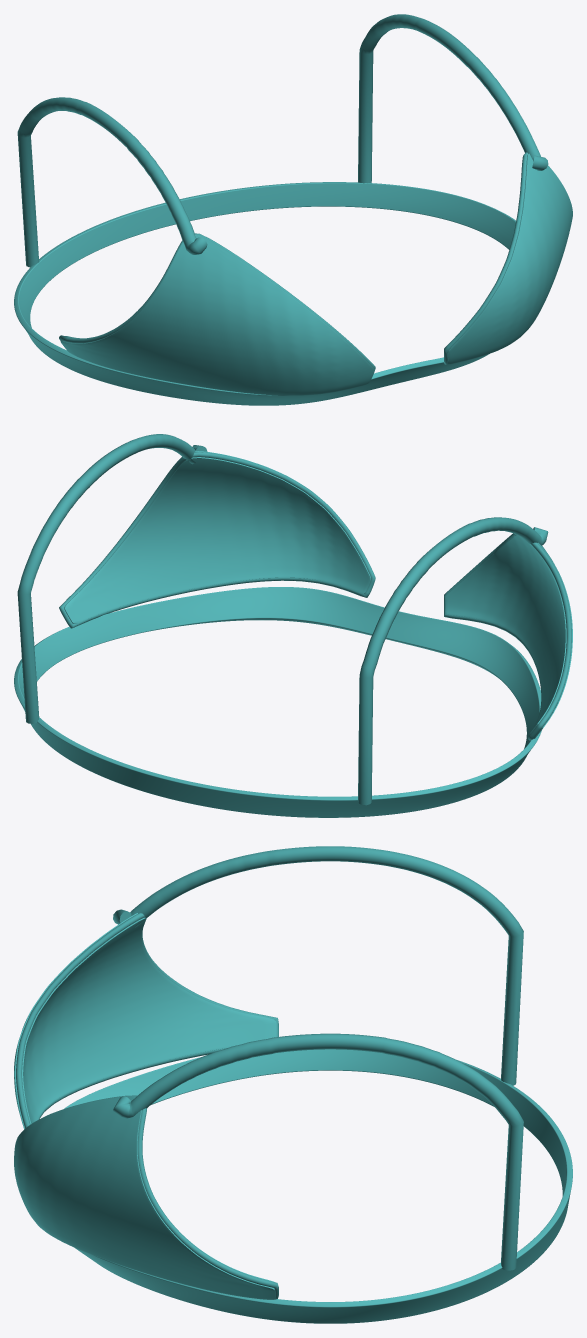
Rendered from Feminine-triangle-top.glb.
The picture shows the model from 3 angles, top to bottom: view 1: azimuth 30°, elevation 25°; view 2: azimuth 150°, elevation 25°; view 3: azimuth 270°, elevation 25°; orthographic projection. The views are drawn at different scales.
Visible parts, largest first — view 1: Clothing / triangle cup -1, Clothing / Triangle underband, Clothing / triangle cup 1, Triangle shoulder strap -1 export, Triangle shoulder strap 1 export, Triangle / seated cup binding -1 export, Triangle / seated cup binding 1 export; view 2: Clothing / Triangle underband, Clothing / triangle cup 1, Clothing / triangle cup -1, Triangle shoulder strap -1 export, Triangle shoulder strap 1 export, Triangle / seated cup binding 1 export, Triangle / seated cup binding -1 export; view 3: Clothing / triangle cup -1, Clothing / triangle cup 1, Clothing / Triangle underband, Triangle shoulder strap 1 export, Triangle shoulder strap -1 export, Triangle / seated cup binding -1 export, Triangle / seated cup binding 1 export.
Part boxes in pixels (x1,y1,x2,y2): Clothing / triangle cup -1: (60, 235, 374, 395); Clothing / Triangle underband: (14, 182, 515, 405); Clothing / triangle cup 1: (447, 153, 572, 364); Triangle shoulder strap -1 export: (17, 97, 207, 267); Triangle shoulder strap 1 export: (358, 14, 548, 183); Triangle / seated cup binding -1 export: (59, 233, 375, 369); Triangle / seated cup binding 1 export: (444, 152, 528, 364); Clothing / Triangle underband: (14, 587, 541, 817); Clothing / triangle cup 1: (64, 451, 370, 623); Clothing / triangle cup -1: (445, 535, 572, 738); Triangle shoulder strap -1 export: (358, 517, 548, 805); Triangle shoulder strap 1 export: (17, 434, 207, 723); Triangle / seated cup binding 1 export: (59, 452, 375, 628); Triangle / seated cup binding -1 export: (444, 533, 571, 740); Clothing / triangle cup -1: (14, 913, 276, 1129); Clothing / triangle cup 1: (14, 1096, 275, 1299); Clothing / Triangle underband: (64, 1049, 572, 1323); Triangle shoulder strap 1 export: (113, 1033, 523, 1270); Triangle shoulder strap -1 export: (113, 846, 523, 1085); Triangle / seated cup binding -1 export: (16, 913, 278, 1128); Triangle / seated cup binding 1 export: (32, 1095, 278, 1299).
Bounding box in the file's own units: 0.6033 × 0.2703 × 0.5319.
